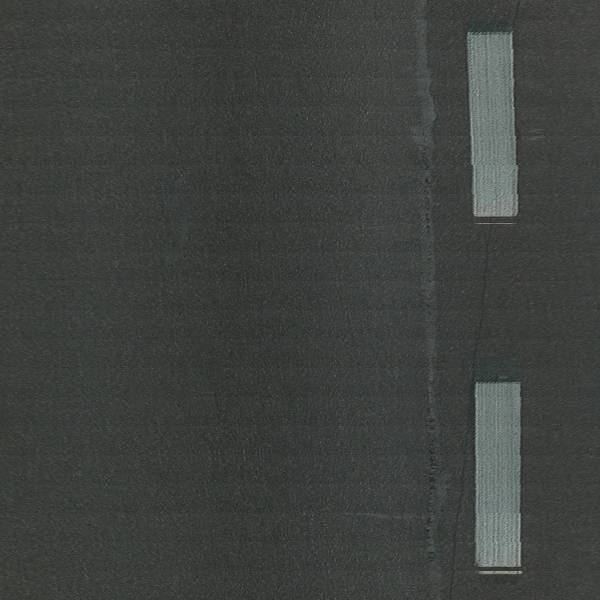road_damage: (410, 35, 455, 576)
